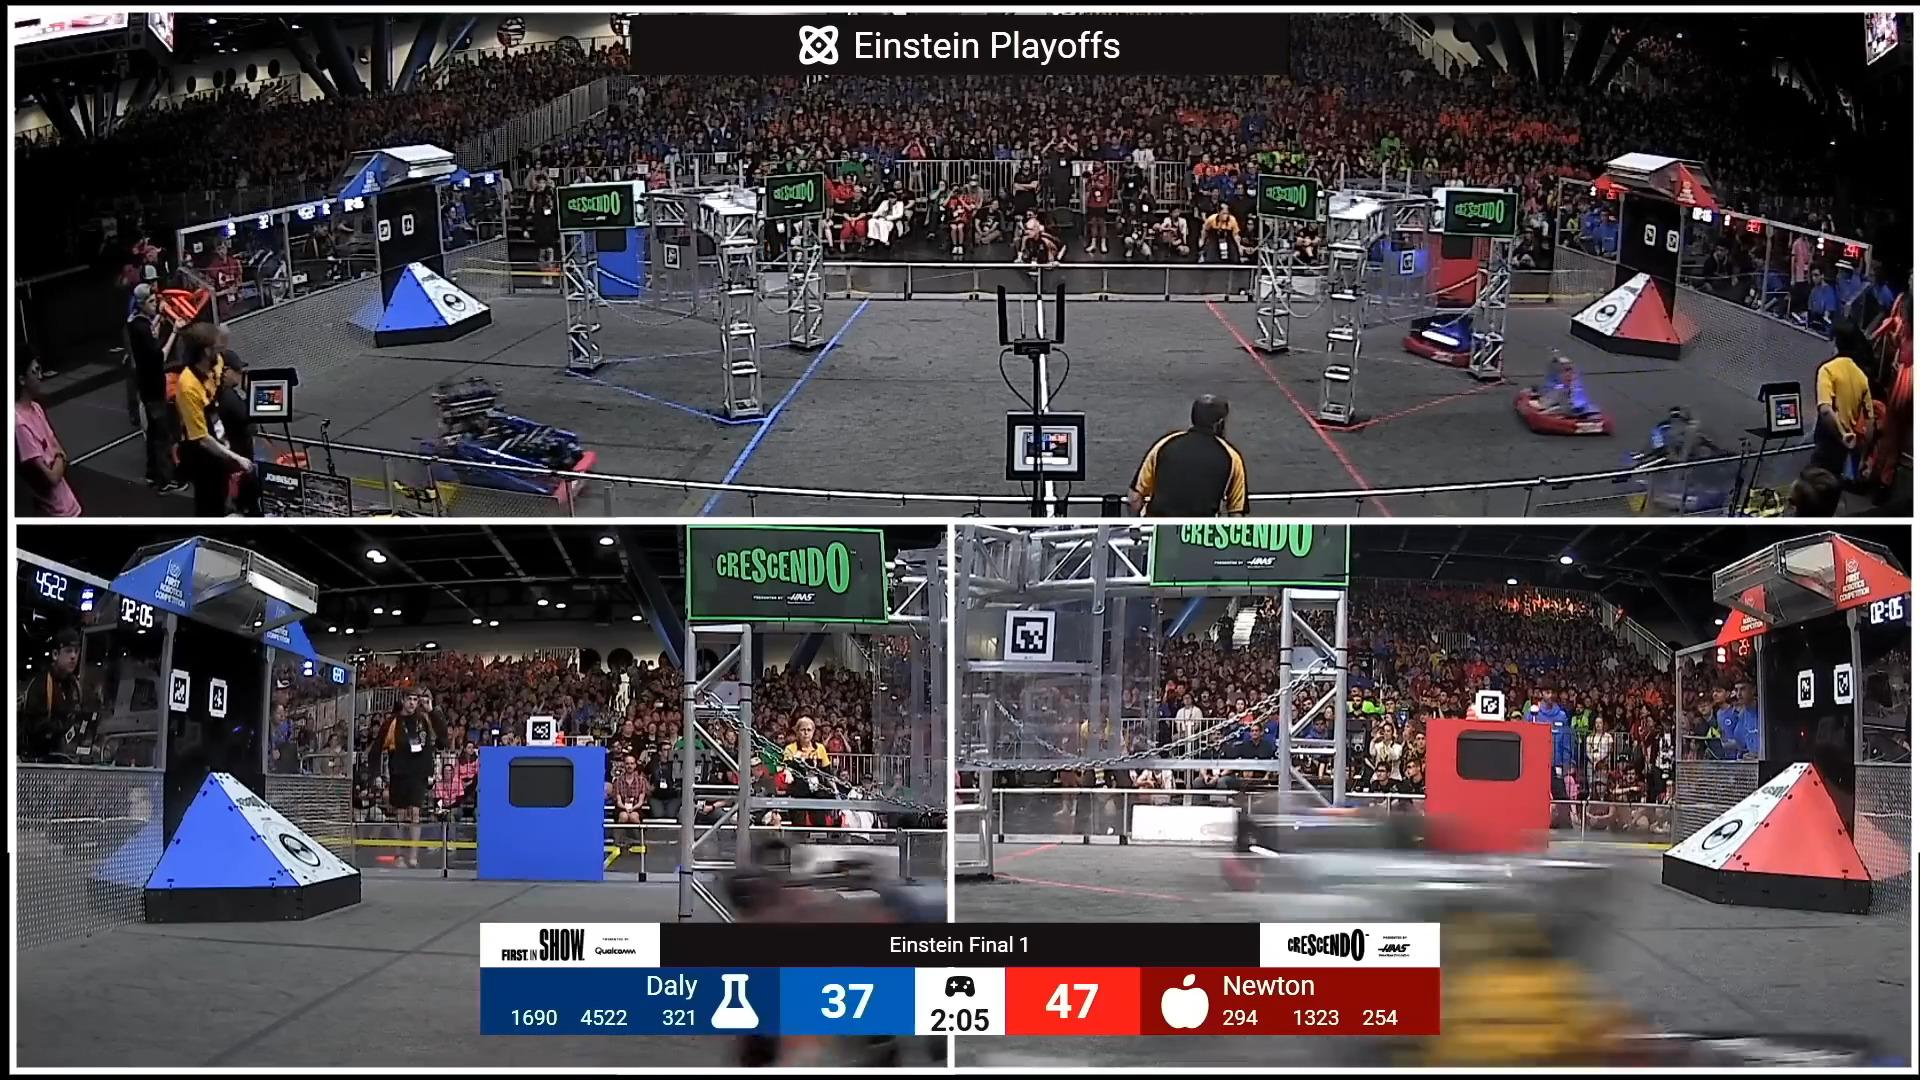blue_idle: (398, 367, 568, 489)
red_idle: (1502, 345, 1630, 443), (1398, 298, 1499, 375)
